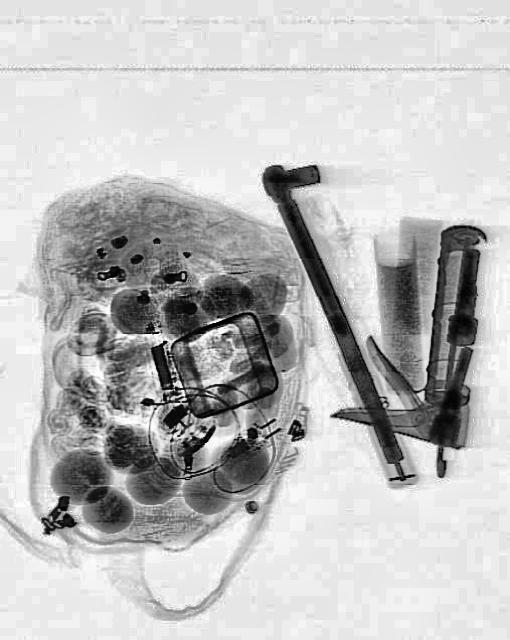Knife: (328, 209, 486, 449)
